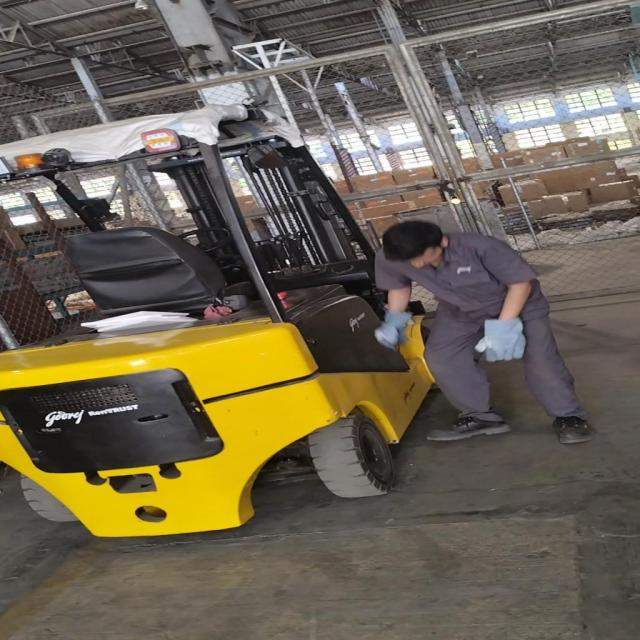Gloves-Detection: (473, 314, 524, 370), (373, 310, 410, 348)
